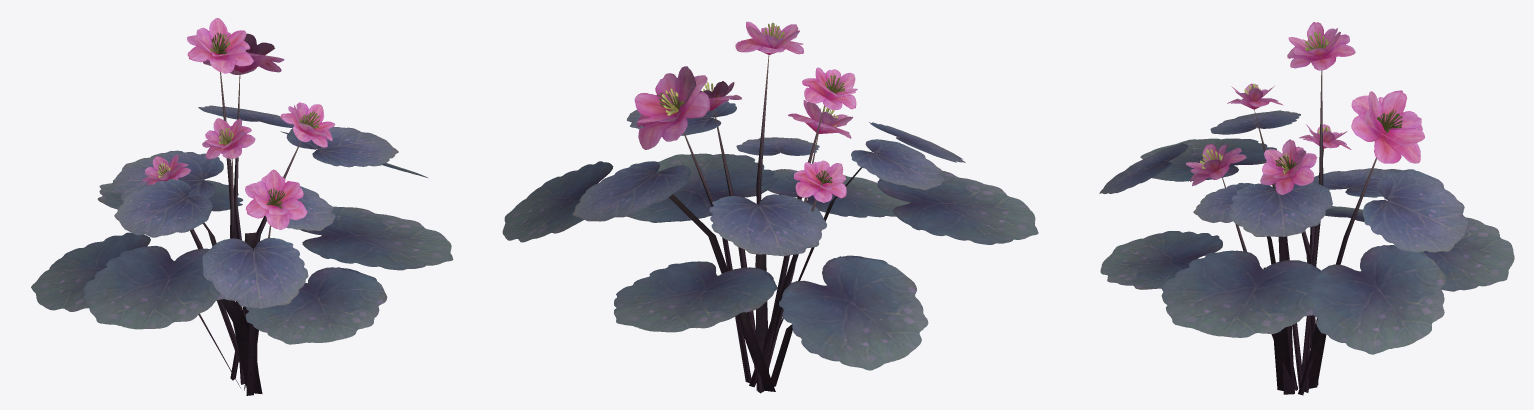
The model's file is wm_灌木棉菜01.fbx.
The picture shows the model from 3 angles, left to right: view 1: azimuth 30°, elevation 25°; view 2: azimuth 150°, elevation 25°; view 3: azimuth 270°, elevation 25°; orthographic projection. The views are drawn at different scales.
Parts seen in each view (by area): view 1: wm_灌木棉菜01; view 2: wm_灌木棉菜01; view 3: wm_灌木棉菜01.
Boxes of the visible parts, x1,y1,x2,y2 form: wm_灌木棉菜01: (31, 18, 453, 395); wm_灌木棉菜01: (502, 21, 1038, 393); wm_灌木棉菜01: (1099, 22, 1514, 395).
Size of the model in its own units: 138 by 105 by 116.
